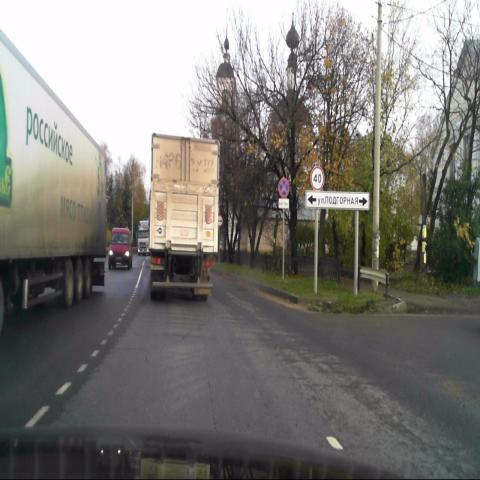3_24: (310, 166, 324, 192)
3_27: (278, 177, 289, 197)
